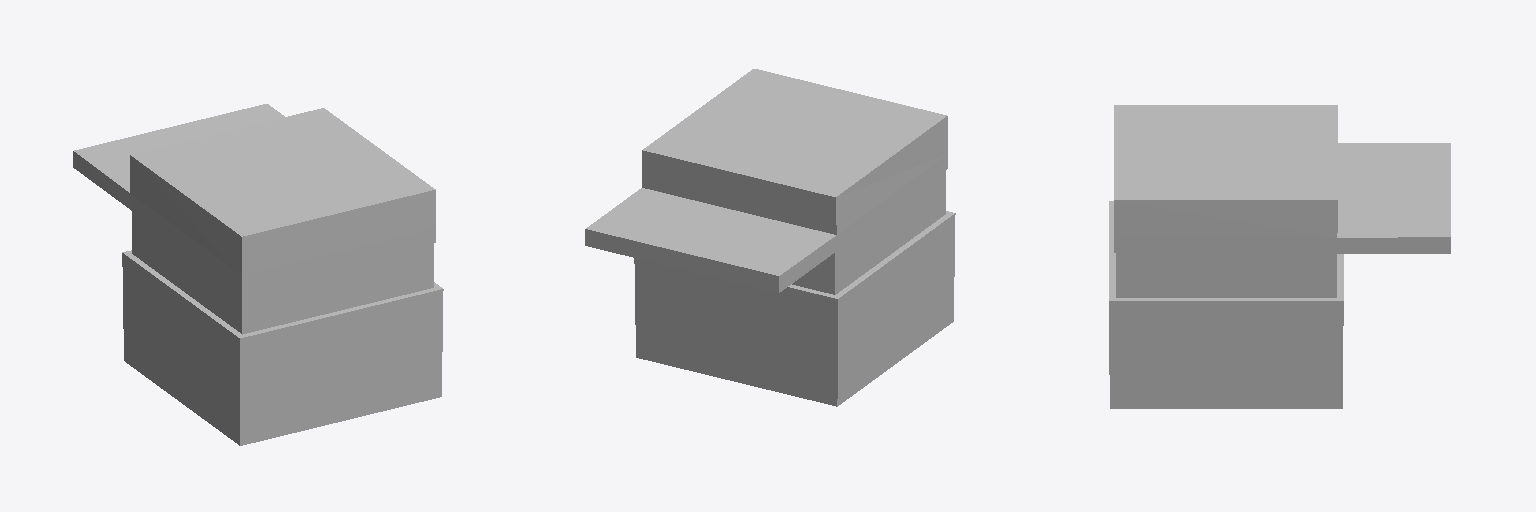
Rendered from enemy.obj.
3 renders of one model, left to right at view 1: azimuth 30°, elevation 25°; view 2: azimuth 150°, elevation 25°; view 3: azimuth 270°, elevation 25°, orthographic.
Parts seen in each view (by area): view 1: Cube.001, Cube.002, Cube; view 2: Cube.001, Cube.002, Cube; view 3: Cube.001, Cube.002, Cube.
Boxes of the visible parts, x1,y1,x2,y2 form: Cube.001: [73, 104, 435, 289]; Cube.002: [122, 250, 443, 445]; Cube: [132, 211, 433, 334]; Cube.001: [585, 69, 947, 292]; Cube.002: [634, 211, 955, 406]; Cube: [792, 171, 945, 294]; Cube.001: [1114, 105, 1450, 253]; Cube.002: [1109, 201, 1343, 408]; Cube: [1116, 253, 1336, 297].
Bounding box in the file's own units: 2.13 × 2.06 × 3.1.